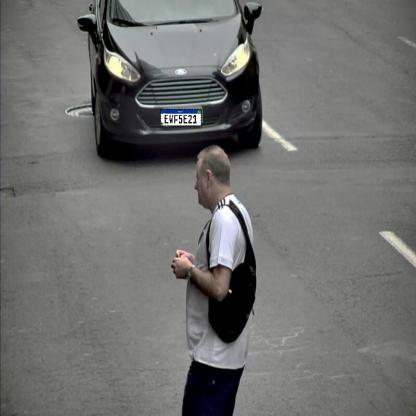PlacaM: (160, 109, 202, 126)
